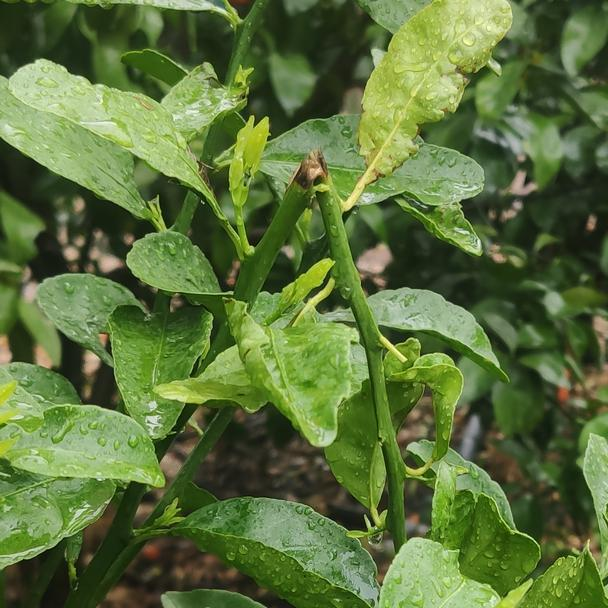shoot: (223, 121, 273, 214)
